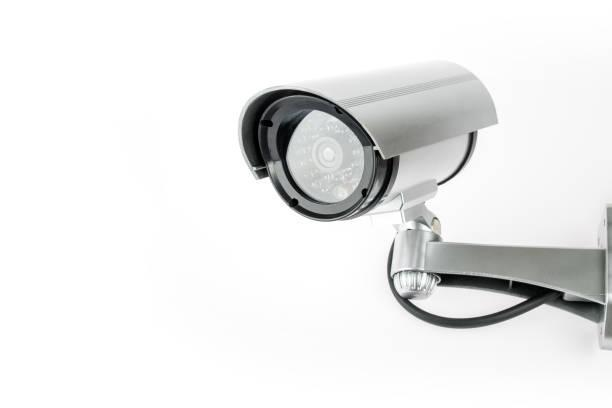camera: (210, 31, 506, 272)
